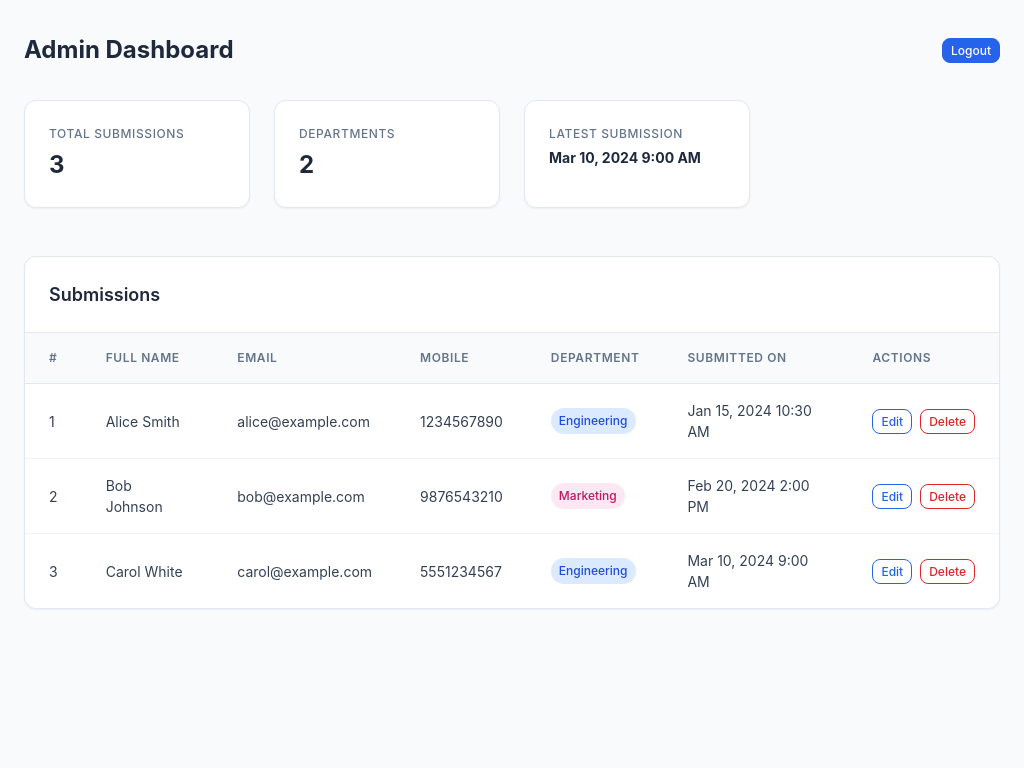
Scenario: AdminDashboard › edit button opens modal › saves changes and closes modal on successful update
This screenshot has width=1024, height=768.
Click the button "Edit" in the row of "Alice Smith": x=892, y=421 [872,408,912,434]
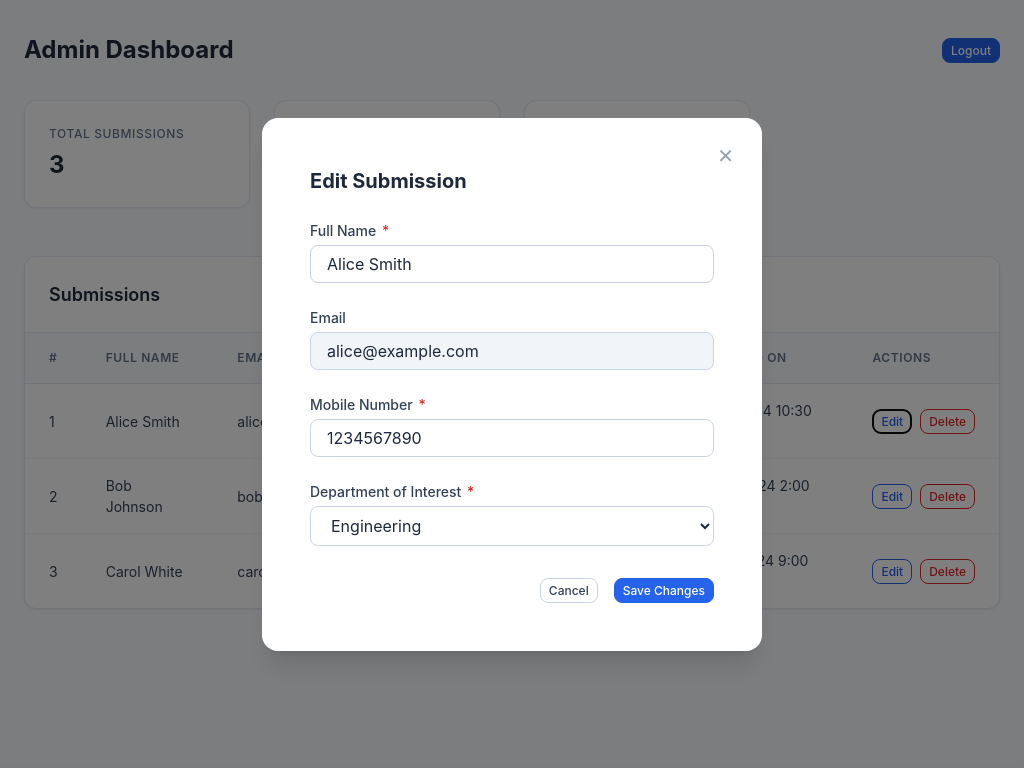
Result: the heading "Edit Submission" is shown at [310,168,467,192]
Replace the text in the field showing "Alice Smith" with "Alice Updated": x=512, y=264 [310,244,714,282]
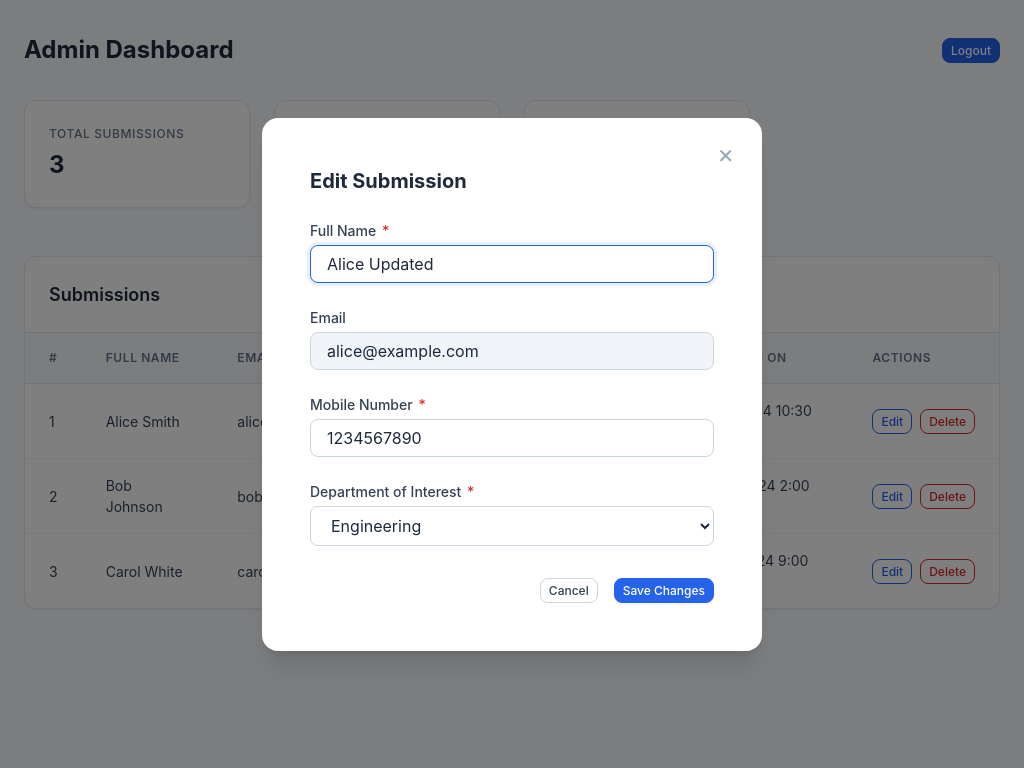
Click the button "Save Changes": x=664, y=590 [614,578,714,602]
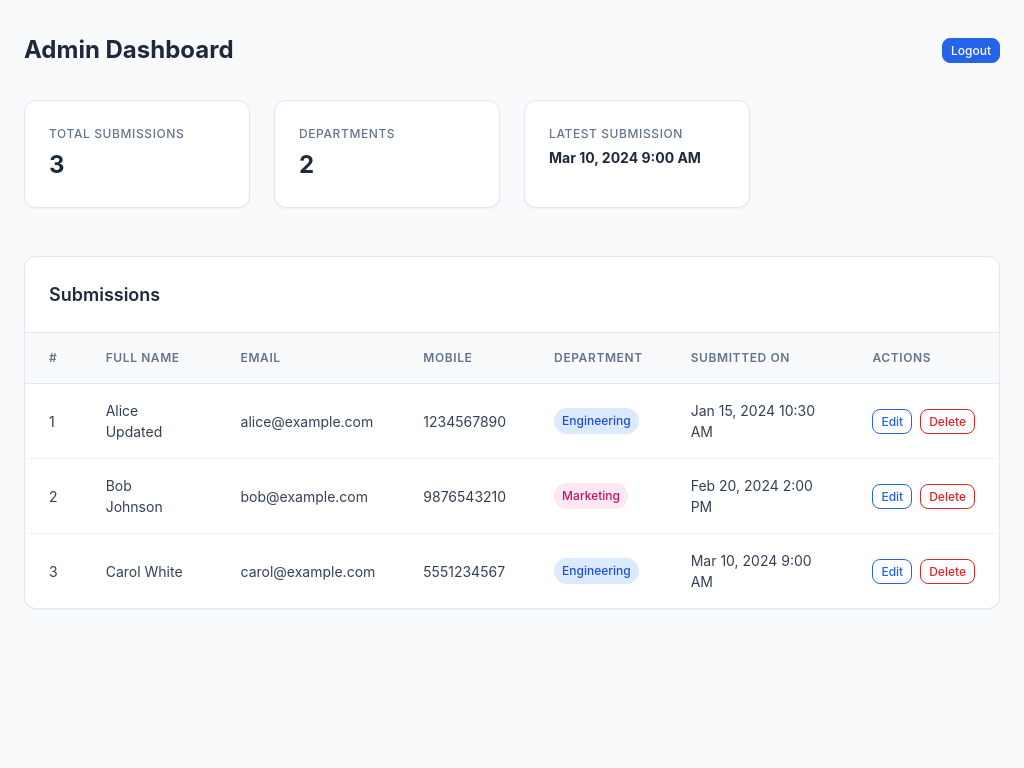
Result: the heading "Edit Submission" is gone
